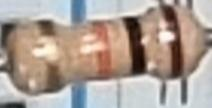Black: (120, 15, 149, 80)
Brown: (157, 5, 188, 79)
Orange: (89, 18, 117, 78)
Side-Silver: (35, 18, 62, 93)
